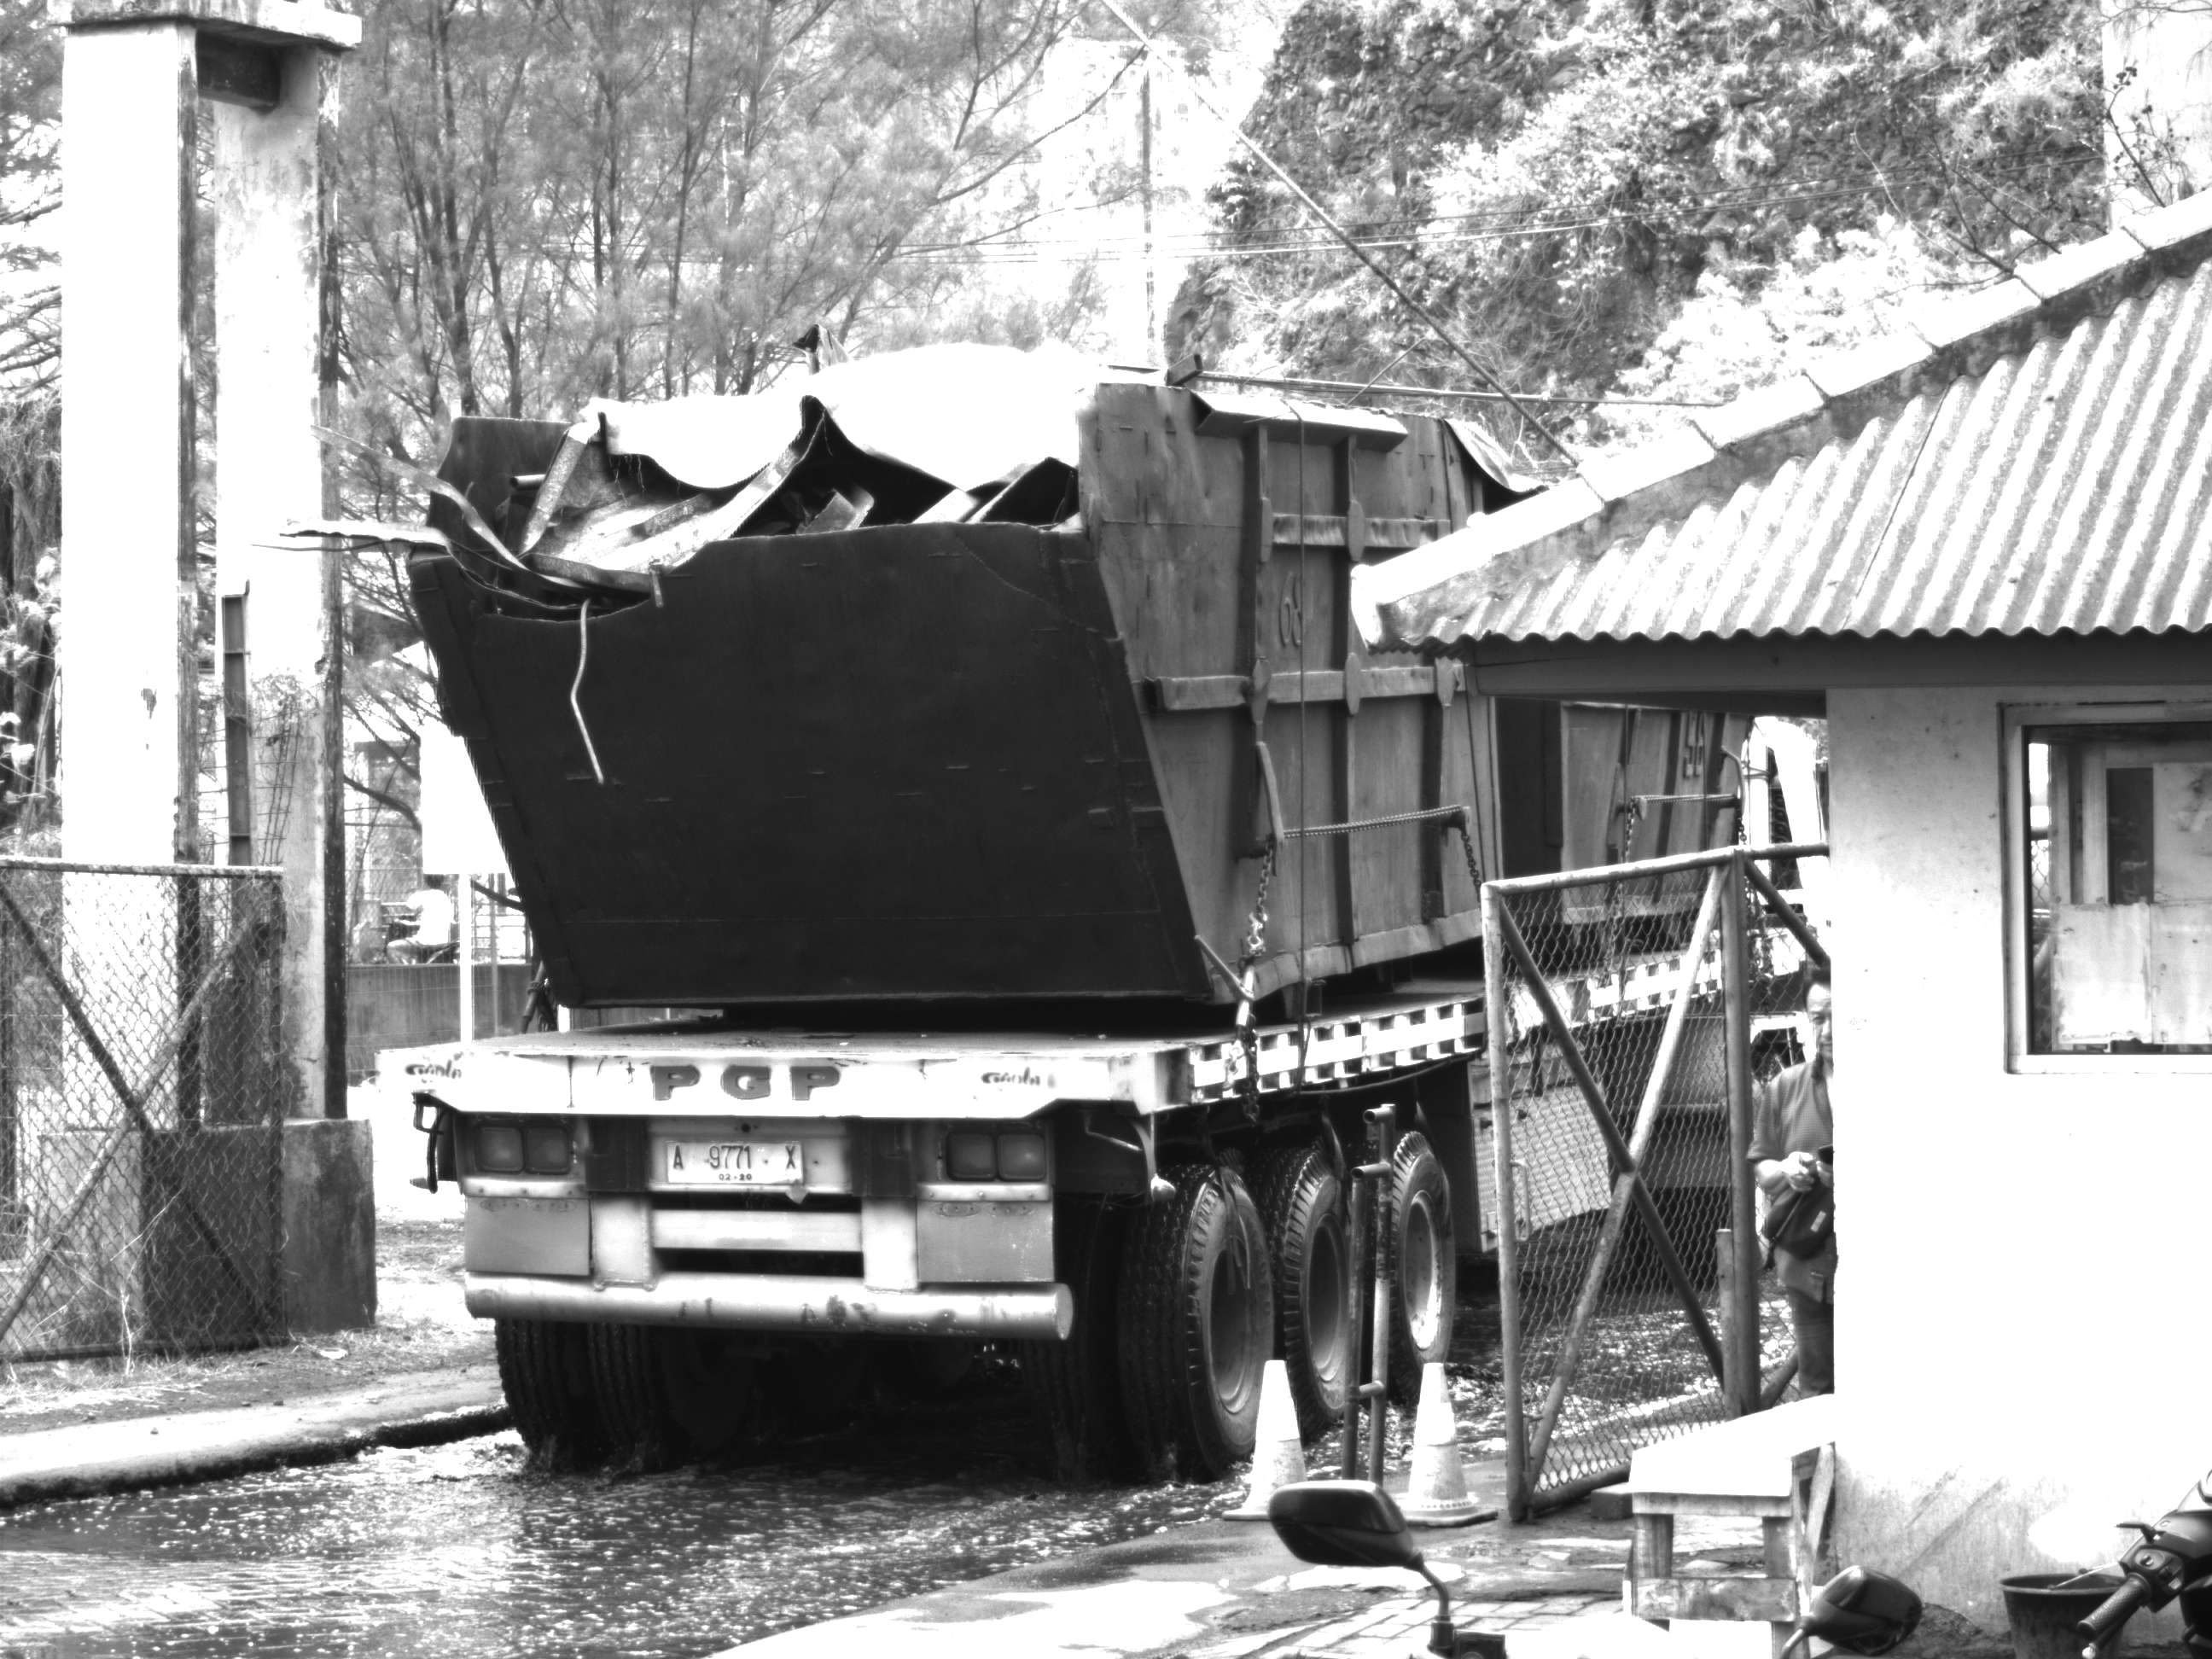day_truck_rear: (364, 1031, 1324, 1492)
plate: (666, 1138, 804, 1191)
